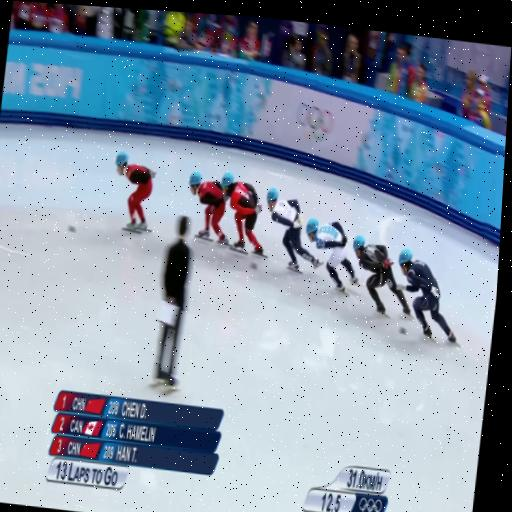Skater: (398, 249, 456, 344), (353, 236, 411, 317), (267, 188, 320, 272), (306, 218, 358, 294), (222, 173, 263, 255), (116, 152, 155, 232), (189, 172, 228, 244)
